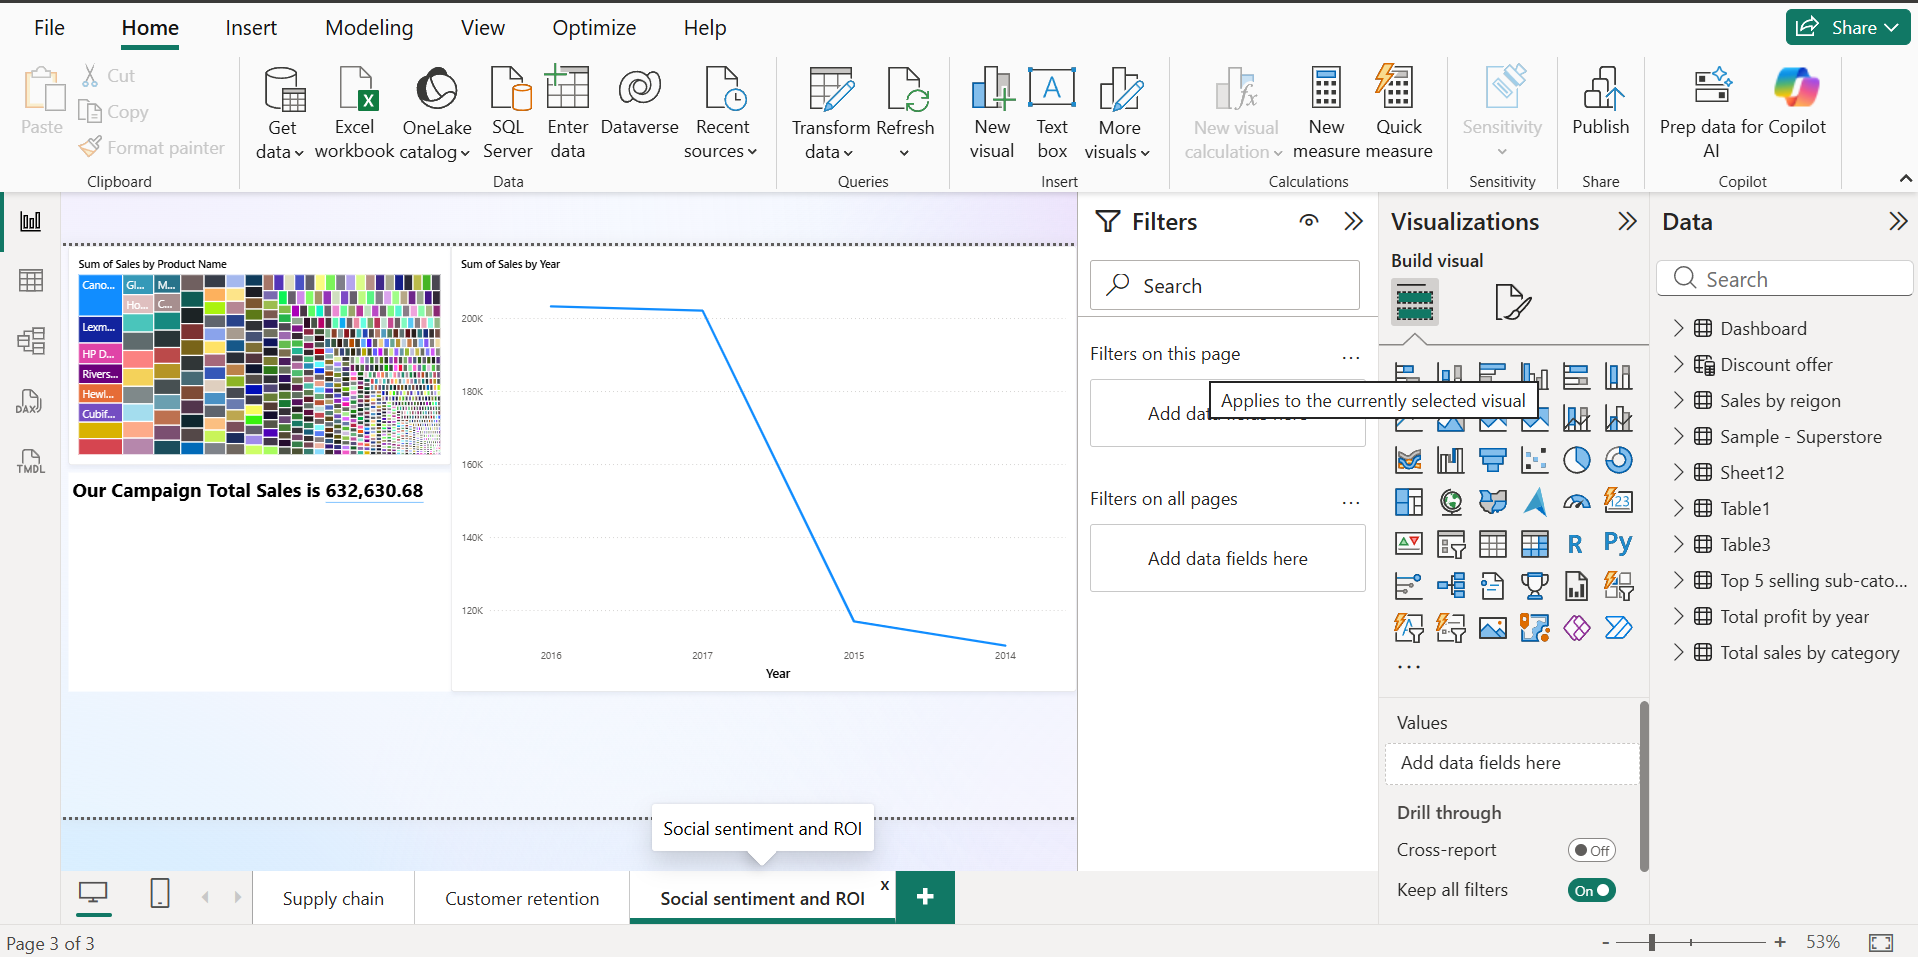

The page's visual inventory and layout, read from the dashboard file:
{"tool":"powerbi","page":{"name":"Social sentiment and ROI","canvas":[1280,720],"ordinal":2},"visuals":[{"type":"treemap","fields":{"Group":["Table1.Product Name"],"Values":["Sum(Table1.Sales)"]},"box":[9.4,0,481.9,275.9],"z":0},{"type":"textbox","box":[9,286,482,276],"z":1000},{"type":"lineChart","fields":{"Y":["Sum(Table1.Sales)"],"Category":["Table1.Year"]},"box":[491.3,0,788,561.3],"z":2000}]}

Visuals, with their boxes on the page's 1280x720 design canvas (x1, y1, x2, y2). These are canvas units, not pixel positions in the 1918x957 screenshot, which may show the page scaled, cropped or inside an application window:
treemap - Table1.Product Name x Sum(Table1.Sales): <box>9,0,491,276</box>
textbox: <box>9,286,491,562</box>
lineChart - Sum(Table1.Sales) x Table1.Year: <box>491,0,1279,561</box>
